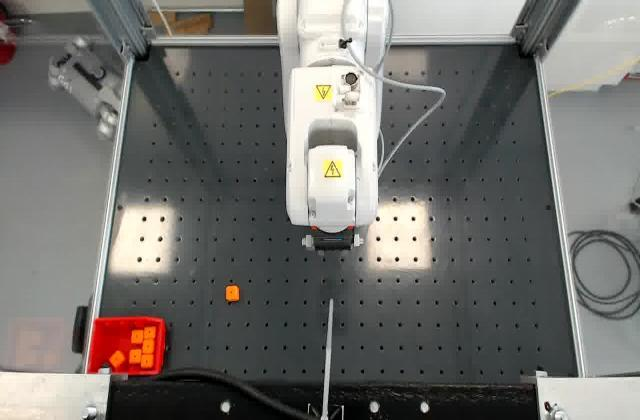cube: (224, 284, 242, 304)
